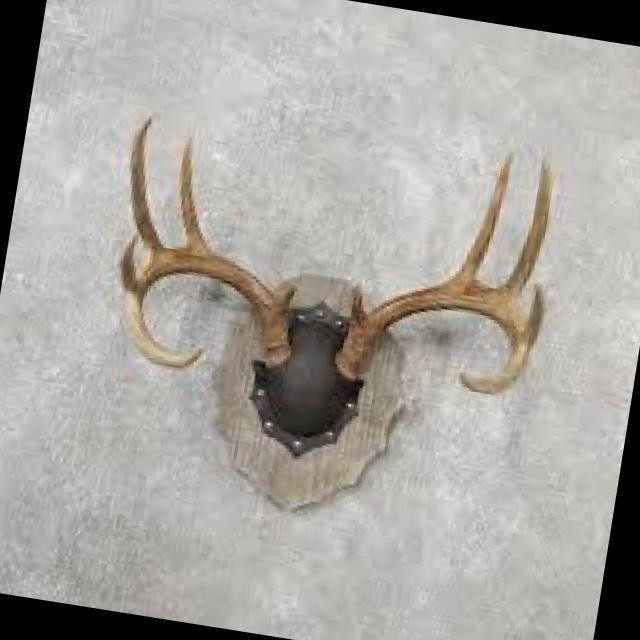L-F: (331, 277, 533, 395)
L-G1: (350, 285, 367, 325)
L-G2: (453, 151, 512, 280)
L-G3: (501, 157, 555, 303)
L-G4: (523, 282, 546, 348)
R-F: (124, 248, 290, 370)
R-G1: (276, 278, 298, 319)
R-G2: (179, 136, 212, 252)
R-G3: (127, 115, 164, 253)
R-G4: (118, 235, 138, 293)
